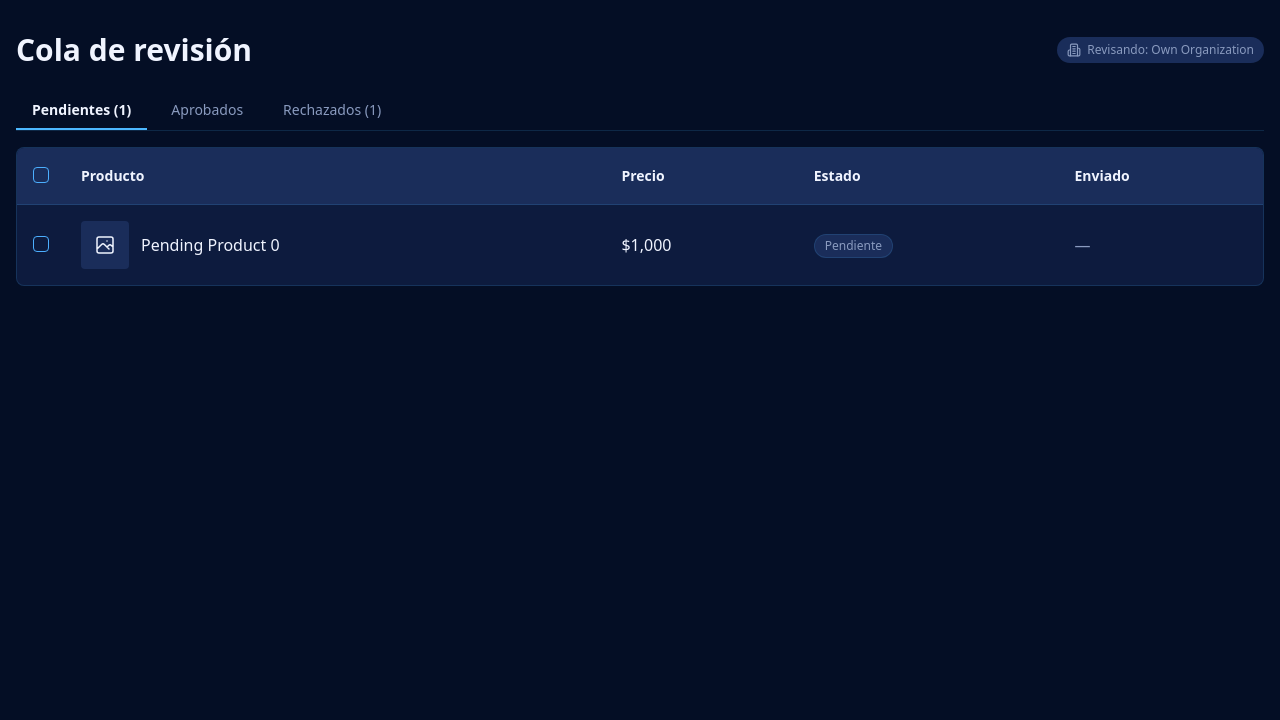
Test case: ReviewQueuePage › resets selectedIds and lastResults when the admin changes tabs
Click the checkbox named "Seleccionar Pending Product 0".
click(41, 244)  # box [33,236,49,252]
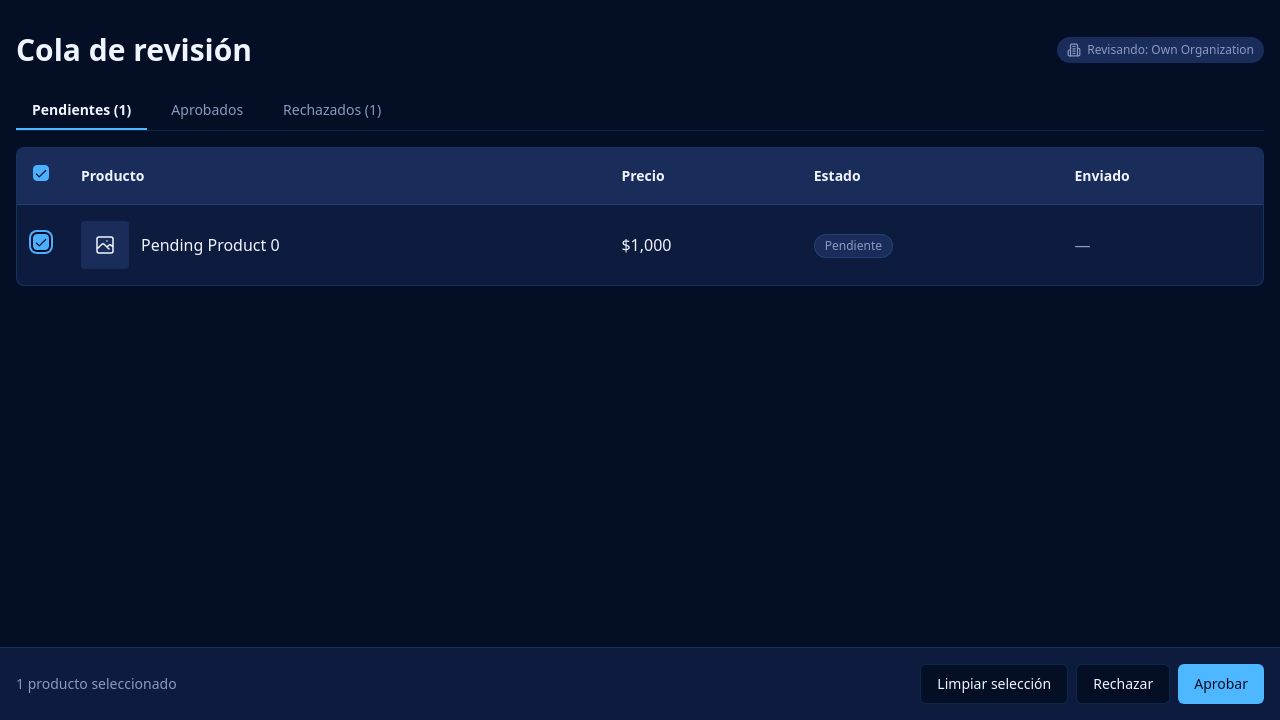
expect the checkbox named "Seleccionar Pending Product 0" is checked: met, box [33,234,49,250]
Click the tab "Rechazados (1)".
click(332, 111)  # box [267,92,397,130]
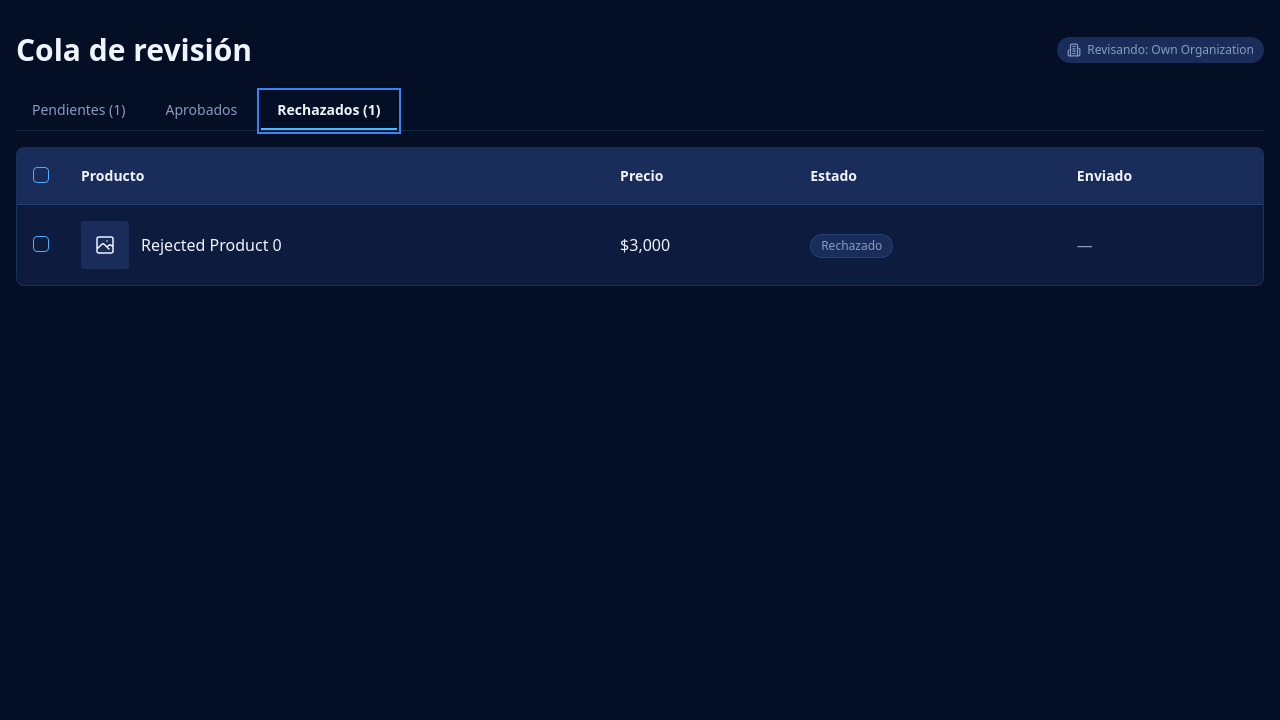
expect the text "Rejected Product 0" is shown: met, box [141,234,282,256]
expect the checkbox named "Seleccionar Rejected Product 0" is not checked: met, box [33,236,49,252]
